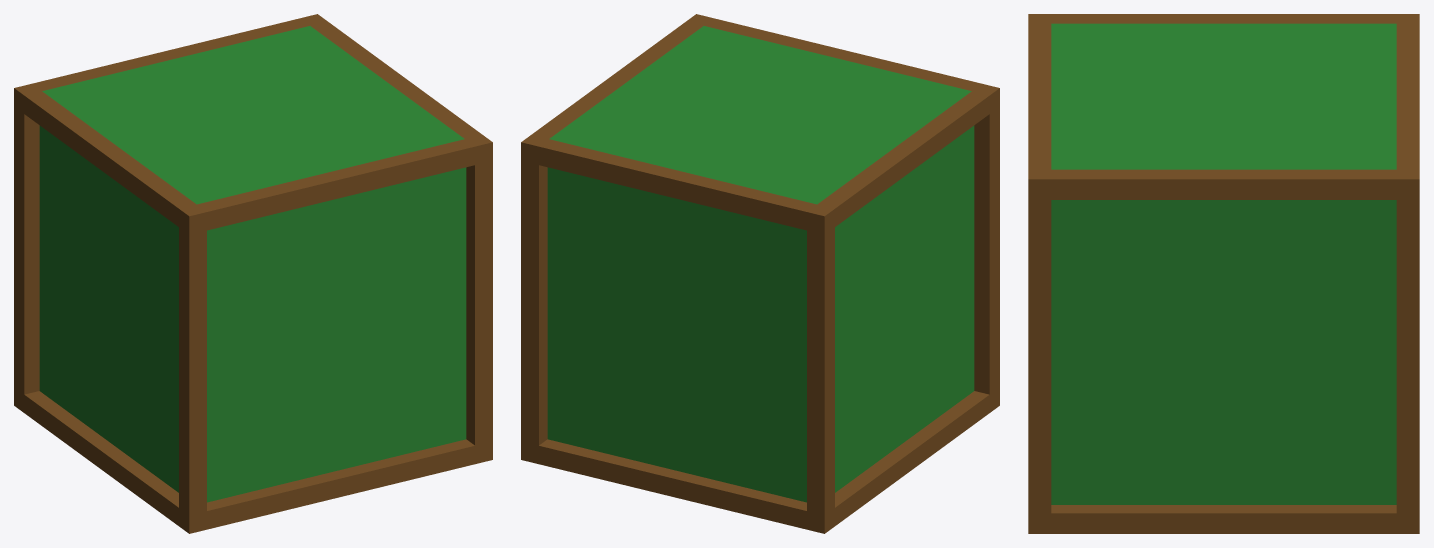
File: Grass_Block.fbx
3 renders of one model, left to right at view 1: azimuth 30°, elevation 25°; view 2: azimuth 150°, elevation 25°; view 3: azimuth 270°, elevation 25°, orthographic. The views are drawn at different scales.
Visible parts, largest first — view 1: Cube; view 2: Cube; view 3: Cube.
Boxes of the visible parts, left/top/right/bottom form: Cube: left=14, top=14, right=492, bottom=533; Cube: left=521, top=14, right=999, bottom=533; Cube: left=1028, top=14, right=1419, bottom=533.
Size of the model in its own units: 200 by 200 by 200.
